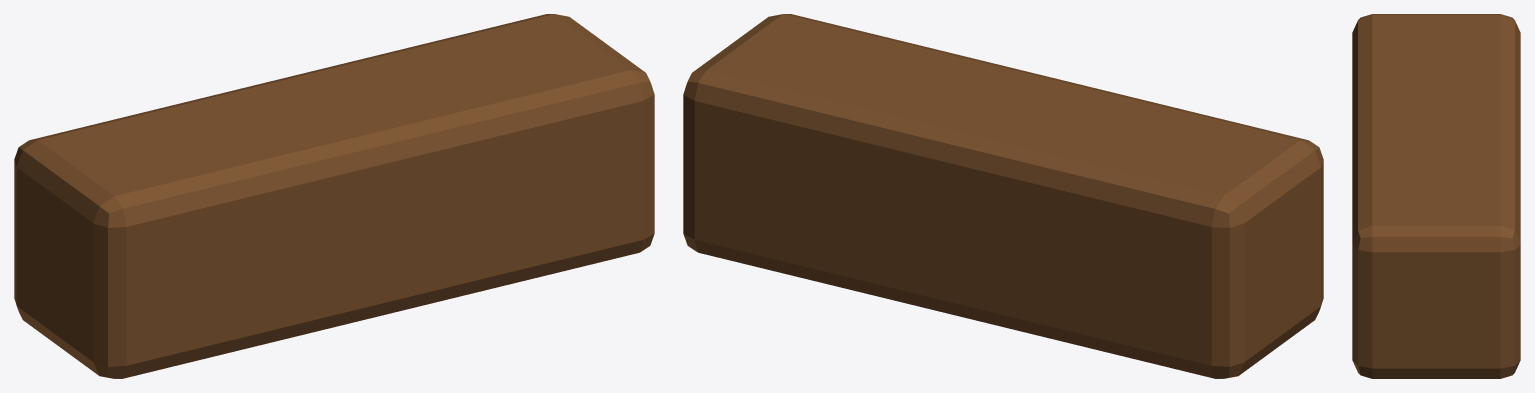
File: Horse_Trough.fbx
The picture shows the model from 3 angles, left to right: view 1: azimuth 30°, elevation 25°; view 2: azimuth 150°, elevation 25°; view 3: azimuth 270°, elevation 25°; orthographic projection. The views are drawn at different scales.
Parts seen in each view (by area): view 1: Trough; view 2: Trough; view 3: Trough.
Part boxes in pixels (bbox=[...]): Trough: bbox=[14, 14, 654, 378]; Trough: bbox=[683, 14, 1323, 378]; Trough: bbox=[1352, 14, 1520, 378].
Bounding box in the file's own units: 1.6 × 0.5 × 0.5.
